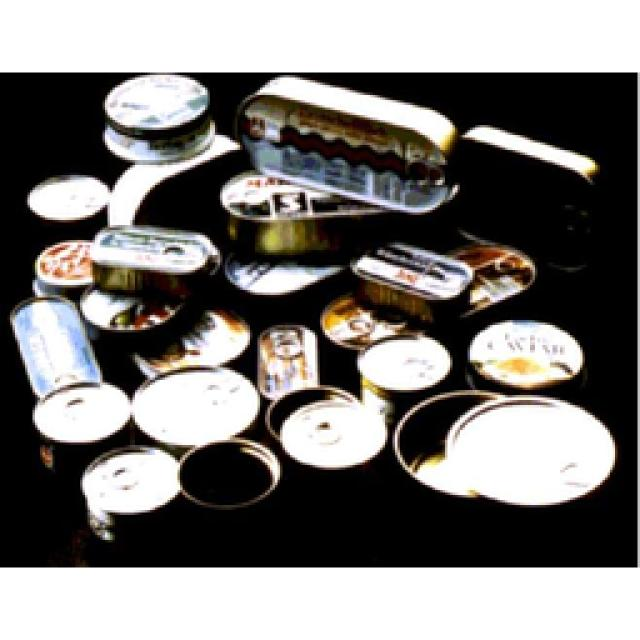alumunium: (10, 75, 598, 540), (392, 390, 612, 505), (470, 320, 582, 388)
